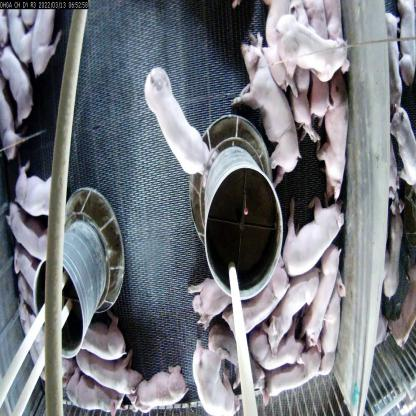Pig: (232, 24, 292, 178), (144, 61, 206, 178), (274, 188, 348, 283), (273, 5, 348, 81), (228, 256, 294, 340), (4, 148, 74, 222), (271, 271, 327, 358), (183, 334, 240, 416), (320, 269, 354, 401), (318, 63, 350, 190), (3, 190, 54, 268), (307, 233, 344, 340), (259, 352, 327, 408), (54, 363, 121, 416), (0, 37, 36, 124), (79, 360, 141, 410), (75, 319, 134, 370), (192, 258, 230, 332), (133, 369, 191, 415), (7, 242, 43, 297)
